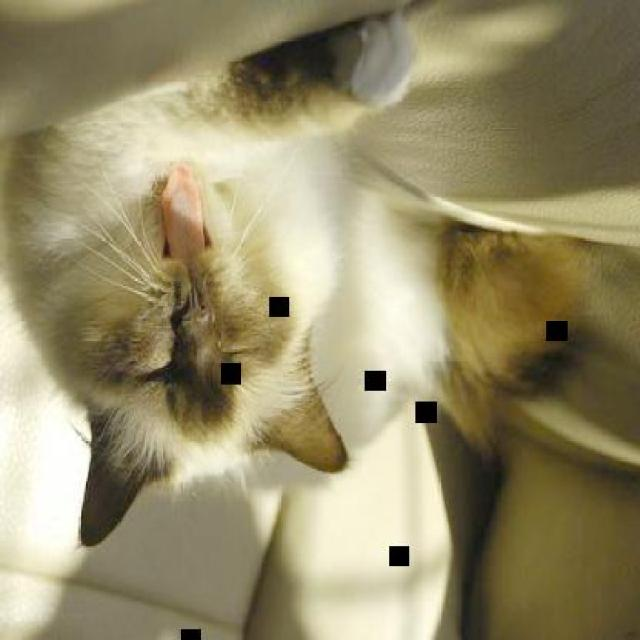cat: (2, 6, 563, 548)
